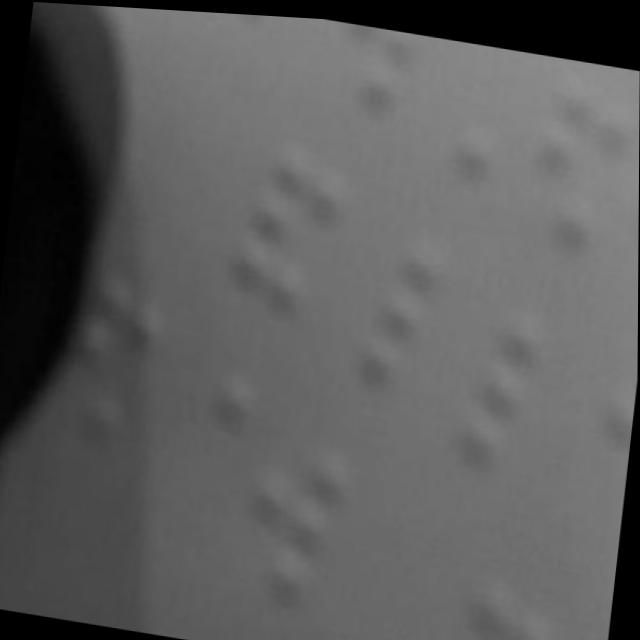braiile: (207, 127, 339, 310), (509, 60, 634, 252), (305, 202, 438, 379), (223, 418, 350, 600), (413, 279, 533, 455)
